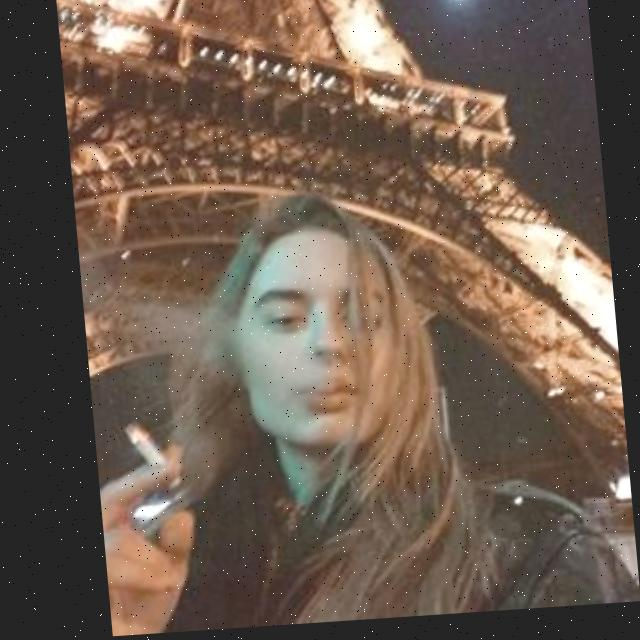cigarette: (119, 426, 174, 490)
